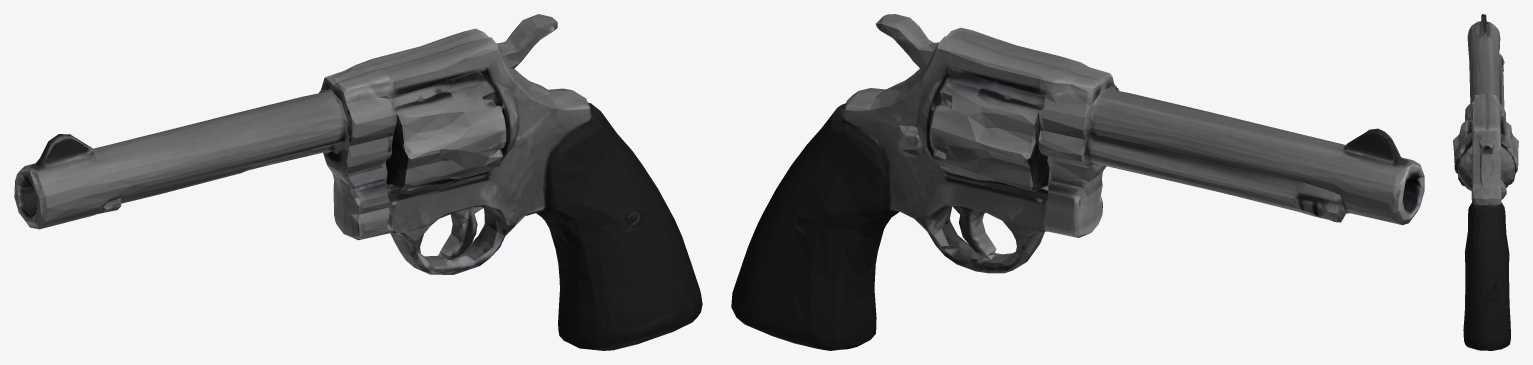
Rendered from revolver.glb.
3 views of the same model, side by side, from view 1: azimuth 30°, elevation 25°; view 2: azimuth 150°, elevation 25°; view 3: azimuth 270°, elevation 25° (orthographic). The views are drawn at different scales.
Visible parts, largest first — view 1: revolver; view 2: revolver; view 3: revolver.
Part boxes in pixels (left/top/right/bottom): revolver: left=14, top=14, right=702, bottom=350; revolver: left=731, top=14, right=1424, bottom=350; revolver: left=1453, top=14, right=1518, bottom=350.
Bounding box in the file's own units: 0.56 × 0.2655 × 0.0895.
Materials: 1 (1 with a texture image).
